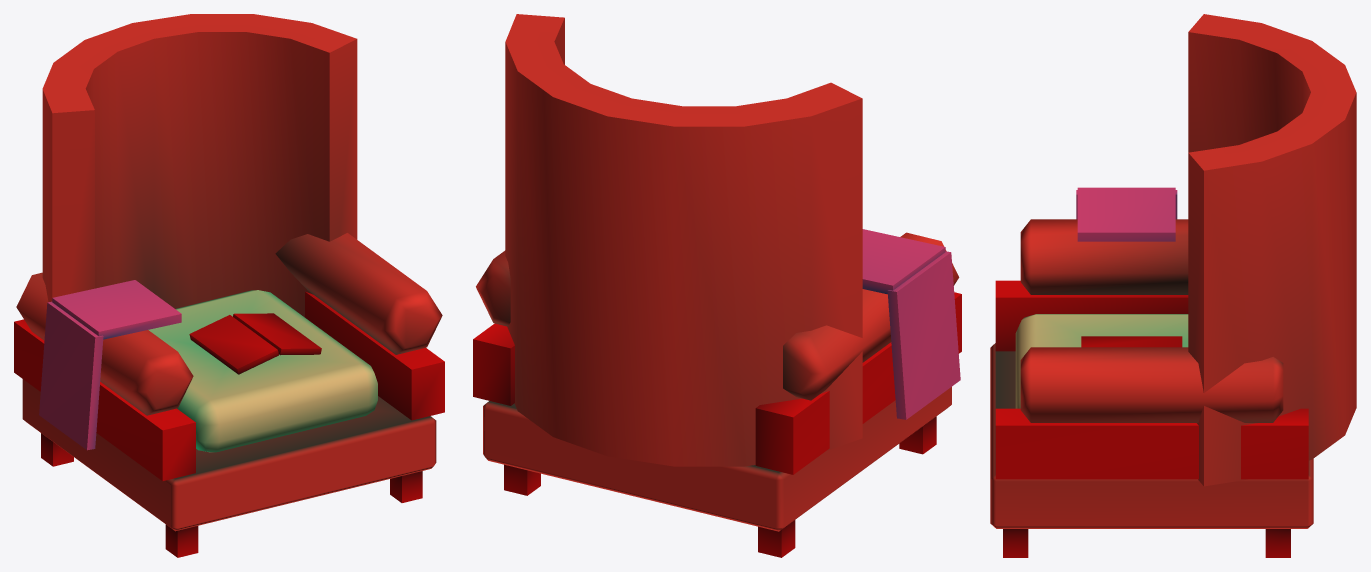
The model's file is CI_Bedroom_Armchair_Reading.glb.
3 views of the same model, side by side, from view 1: azimuth 30°, elevation 25°; view 2: azimuth 150°, elevation 25°; view 3: azimuth 270°, elevation 25° (orthographic). The views are drawn at different scales.
Parts seen in each view (by area): view 1: CI_Bedroom_Armchair_Reading; view 2: CI_Bedroom_Armchair_Reading; view 3: CI_Bedroom_Armchair_Reading.
Boxes of the visible parts, box(x1,y1,x2,y2) form: CI_Bedroom_Armchair_Reading: box(14, 14, 444, 557); CI_Bedroom_Armchair_Reading: box(473, 14, 961, 557); CI_Bedroom_Armchair_Reading: box(990, 14, 1356, 557).
Bounding box in the file's own units: 0.805 × 0.88 × 0.725.
